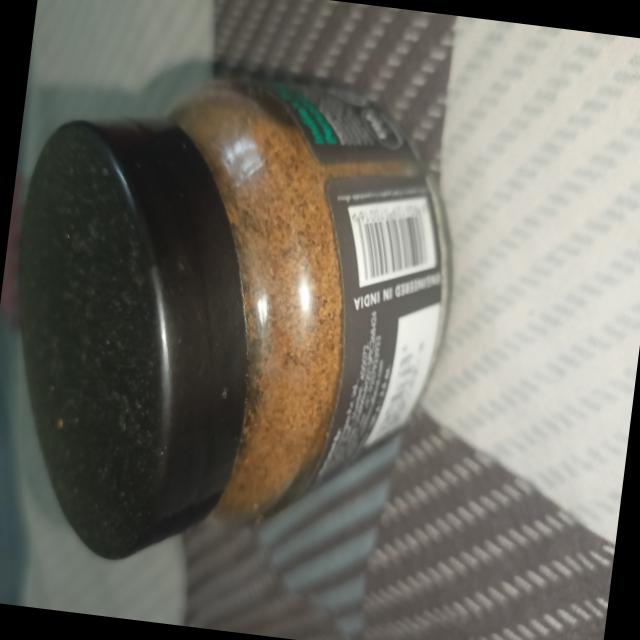glass: (0, 0, 486, 598)
